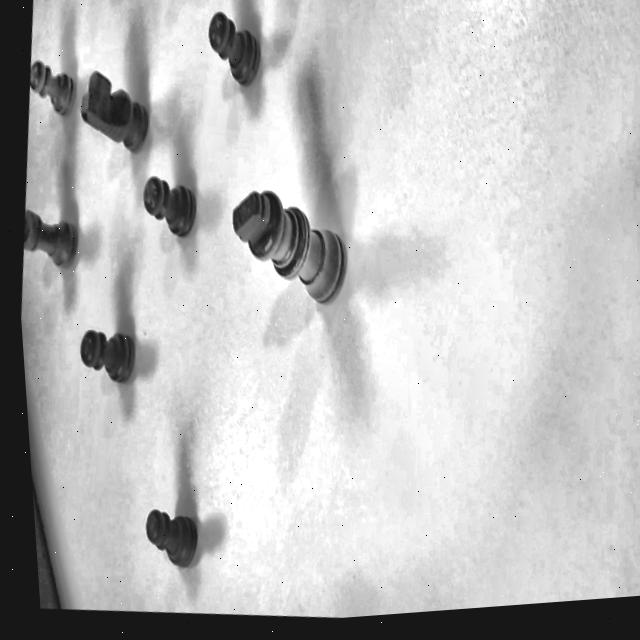black-king: (213, 171, 371, 333)
black-knight: (69, 51, 157, 170)
black-pawn: (189, 0, 276, 120), (131, 487, 215, 593), (128, 158, 208, 266), (67, 310, 148, 400), (21, 44, 85, 135)
black-rook: (15, 189, 91, 288)
